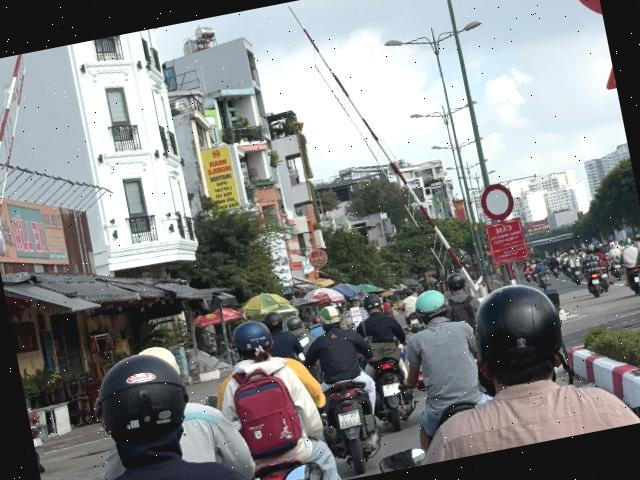duong-cam: (478, 182, 516, 224)
